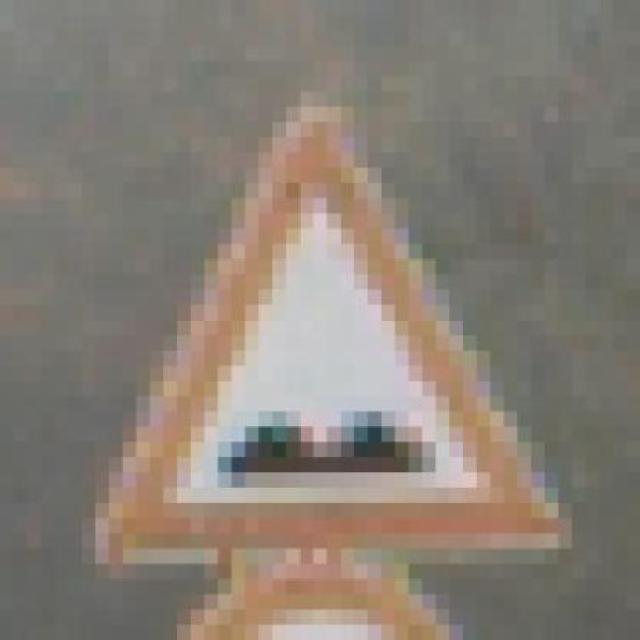Uneven Road: (82, 91, 572, 564)
